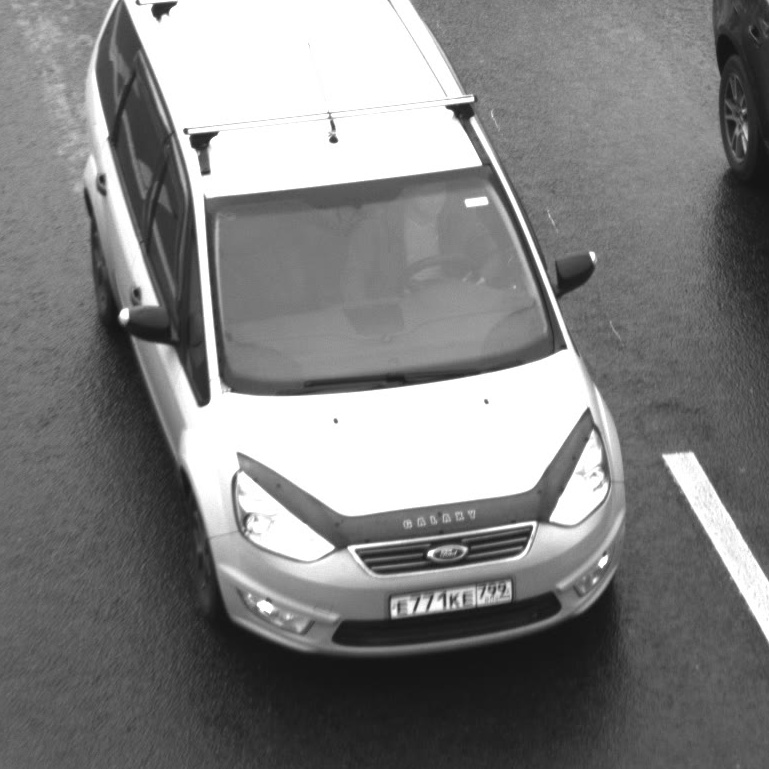plate: (379, 569, 521, 625)
